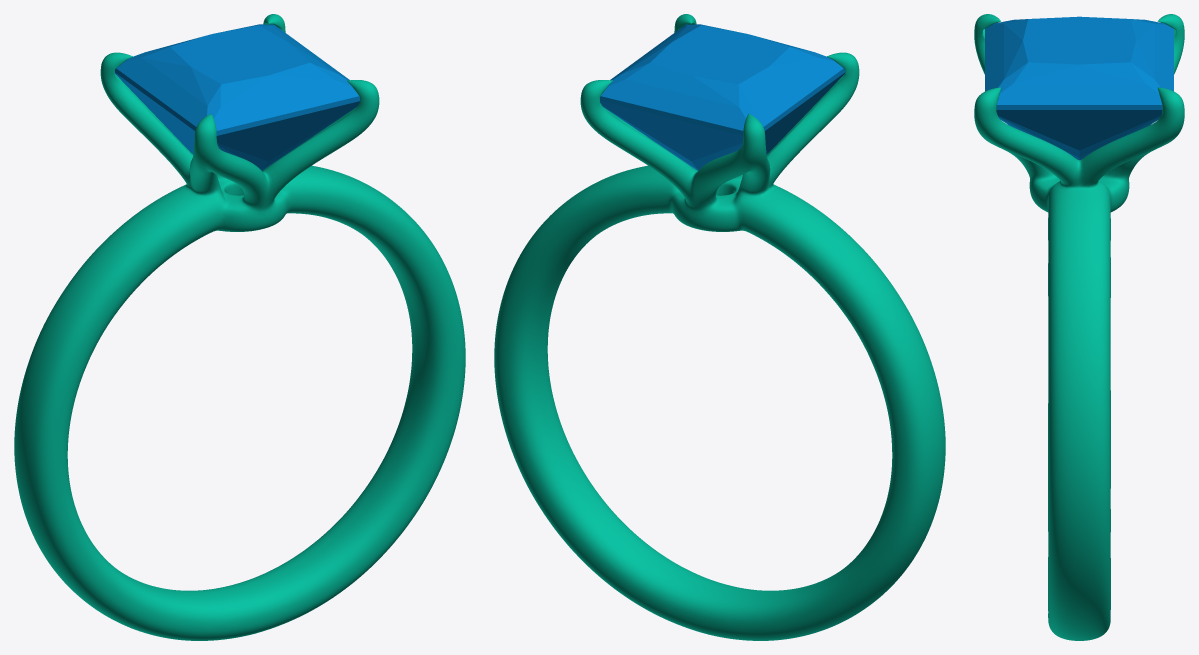
Rendered from BE1435_PR_200ct_RENDER.glb.
3 views of the same model, side by side, from view 1: azimuth 30°, elevation 25°; view 2: azimuth 150°, elevation 25°; view 3: azimuth 270°, elevation 25° (orthographic).
Parts seen in each view (by area): view 1: Metal 01, CS_Diamond_Princess; view 2: Metal 01, CS_Diamond_Princess; view 3: Metal 01, CS_Diamond_Princess.
Boxes of the visible parts, x1,y1,x2,y2 form: Metal 01: [14, 14, 465, 640]; CS_Diamond_Princess: [115, 24, 359, 170]; Metal 01: [494, 14, 945, 640]; CS_Diamond_Princess: [600, 24, 844, 170]; Metal 01: [974, 14, 1184, 640]; CS_Diamond_Princess: [985, 16, 1173, 159].
Bounding box in the file's own units: 20.1 × 25.29 × 8.36.
